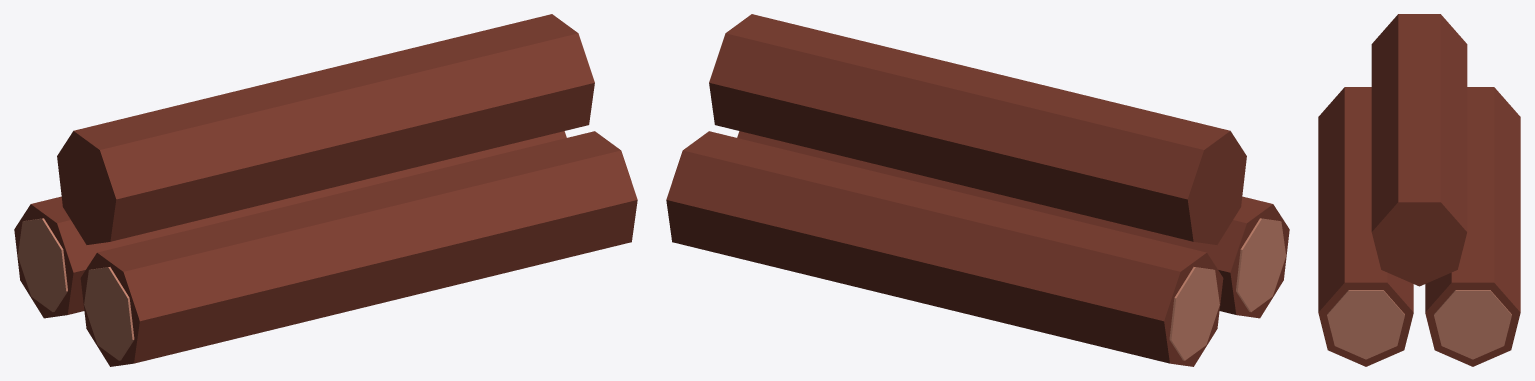
File: drop_logs_yew.glb
The picture shows the model from 3 angles, left to right: view 1: azimuth 30°, elevation 25°; view 2: azimuth 150°, elevation 25°; view 3: azimuth 270°, elevation 25°; orthographic projection. The views are drawn at different scales.
Visible parts, largest first — view 1: drop_logs_yew; view 2: drop_logs_yew; view 3: drop_logs_yew.
Boxes of the visible parts, bbox=[...] form: drop_logs_yew: bbox=[14, 14, 637, 366]; drop_logs_yew: bbox=[666, 14, 1289, 366]; drop_logs_yew: bbox=[1318, 14, 1520, 366].
Size of the model in its own units: 0.524 by 0.1996 by 0.2272.
